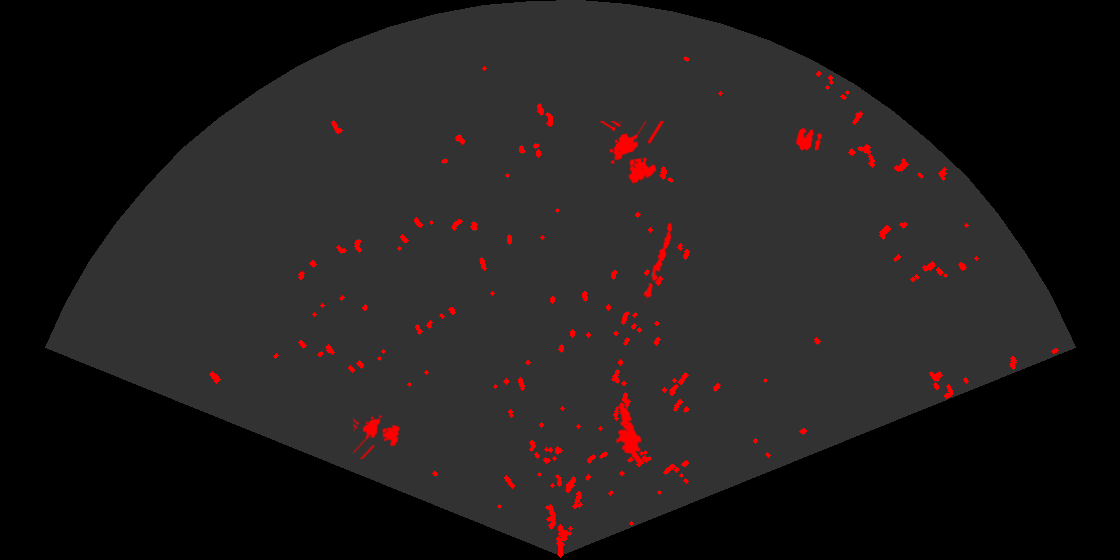ball: (794, 126, 824, 152)
cage: (598, 121, 666, 185), (353, 413, 402, 459)
chain: (642, 221, 674, 304)
frogman: (614, 401, 646, 464)
